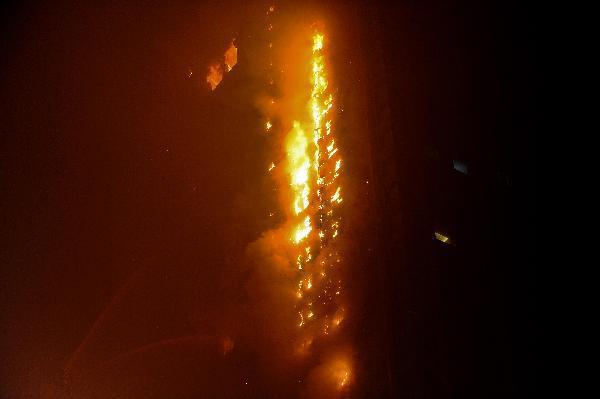fire: (261, 14, 356, 331), (198, 40, 253, 91)
